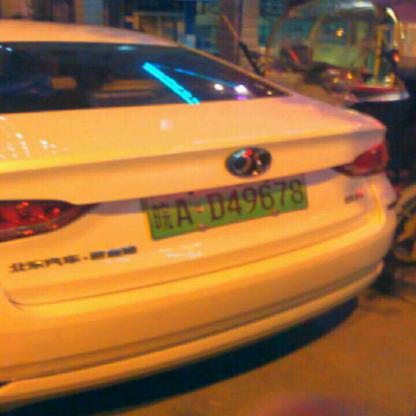lp: (144, 172, 310, 238)
